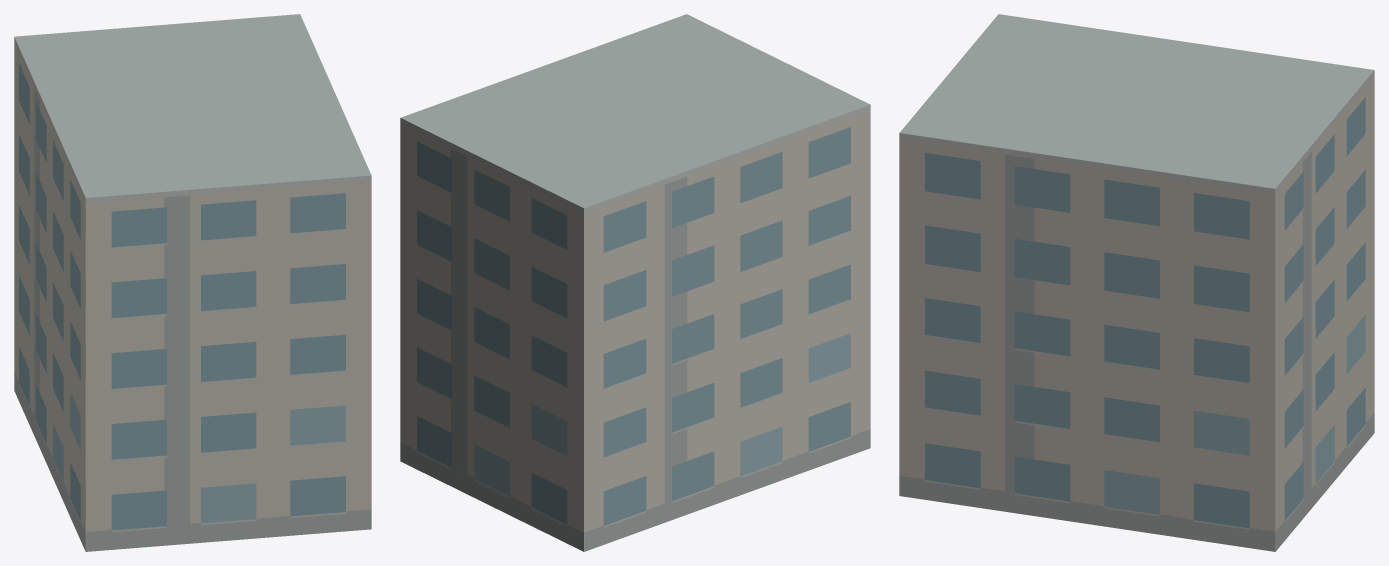
File: residential-986cede9-aa54-4f4d-be65-010fd6fe8000.glb
3 views of the same model, side by side, from view 1: azimuth 30°, elevation 25°; view 2: azimuth 150°, elevation 25°; view 3: azimuth 270°, elevation 25° (orthographic). The views are drawn at different scales.
Visible parts, largest first — view 1: residential-986cede9-aa54-4f4d-be65-010fd6fe8000.tmp; view 2: residential-986cede9-aa54-4f4d-be65-010fd6fe8000.tmp; view 3: residential-986cede9-aa54-4f4d-be65-010fd6fe8000.tmp.
Boxes of the visible parts, x1,y1,x2,y2 form: residential-986cede9-aa54-4f4d-be65-010fd6fe8000.tmp: (14, 14, 371, 551); residential-986cede9-aa54-4f4d-be65-010fd6fe8000.tmp: (400, 14, 870, 551); residential-986cede9-aa54-4f4d-be65-010fd6fe8000.tmp: (899, 14, 1374, 551).
Size of the model in its own units: 15.77 by 15.25 by 18.1.
